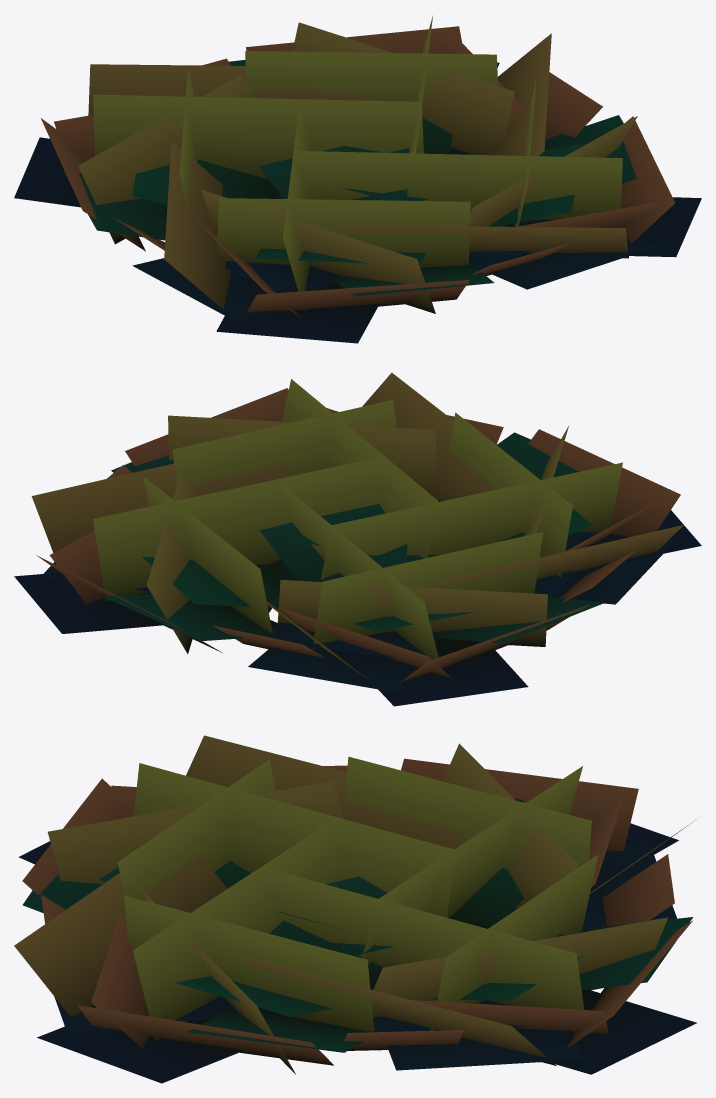
The model's file is TSI_Grass_Patch_02A.fbx.
3 renders of one model, top to bottom at view 1: azimuth 30°, elevation 25°; view 2: azimuth 150°, elevation 25°; view 3: azimuth 270°, elevation 25°, orthographic. The views are drawn at different scales.
Parts seen in each view (by area): view 1: TSI_Grass_Patch_02A_LOD0; view 2: TSI_Grass_Patch_02A_LOD0; view 3: TSI_Grass_Patch_02A_LOD0.
Boxes of the visible parts, x1=… form: TSI_Grass_Patch_02A_LOD0: x1=14, y1=16, x2=701, y2=343; TSI_Grass_Patch_02A_LOD0: x1=14, y1=372, x2=701, y2=706; TSI_Grass_Patch_02A_LOD0: x1=14, y1=735, x2=696, y2=1083.
Bounding box in the file's own units: 371 × 57.85 × 371.
